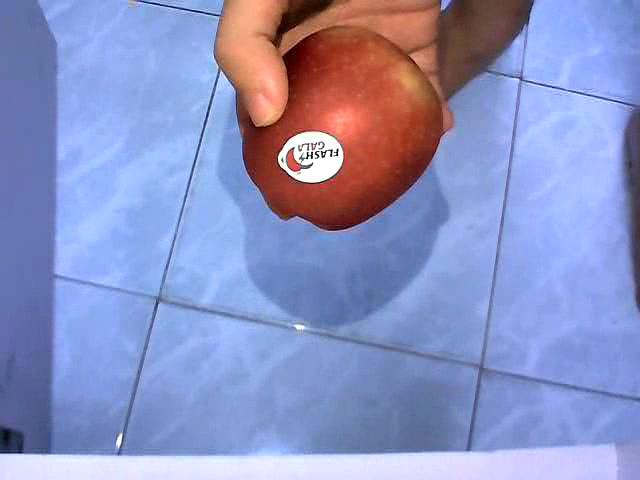apple: (240, 24, 444, 231)
